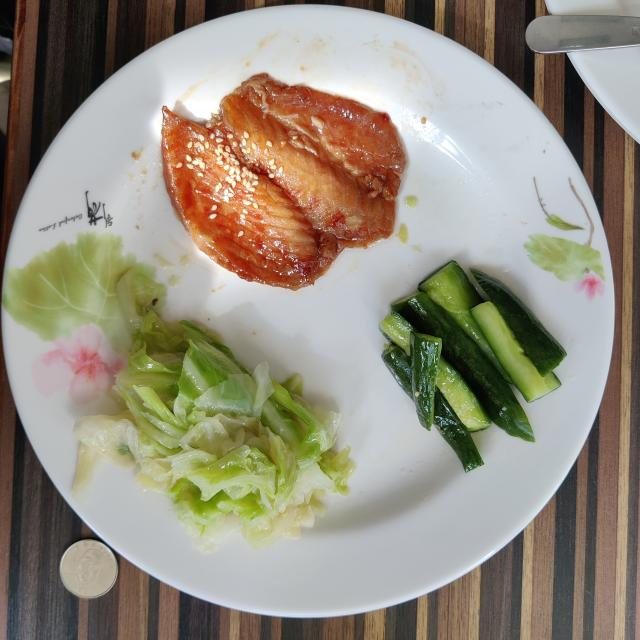Kabayaki sea bream fillet: (161, 74, 406, 289)
cabbage: (72, 300, 355, 549)
coin: (60, 540, 118, 599)
cucumber: (380, 261, 566, 471)
